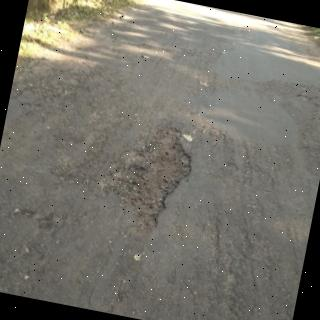pothole: (99, 127, 190, 227)
